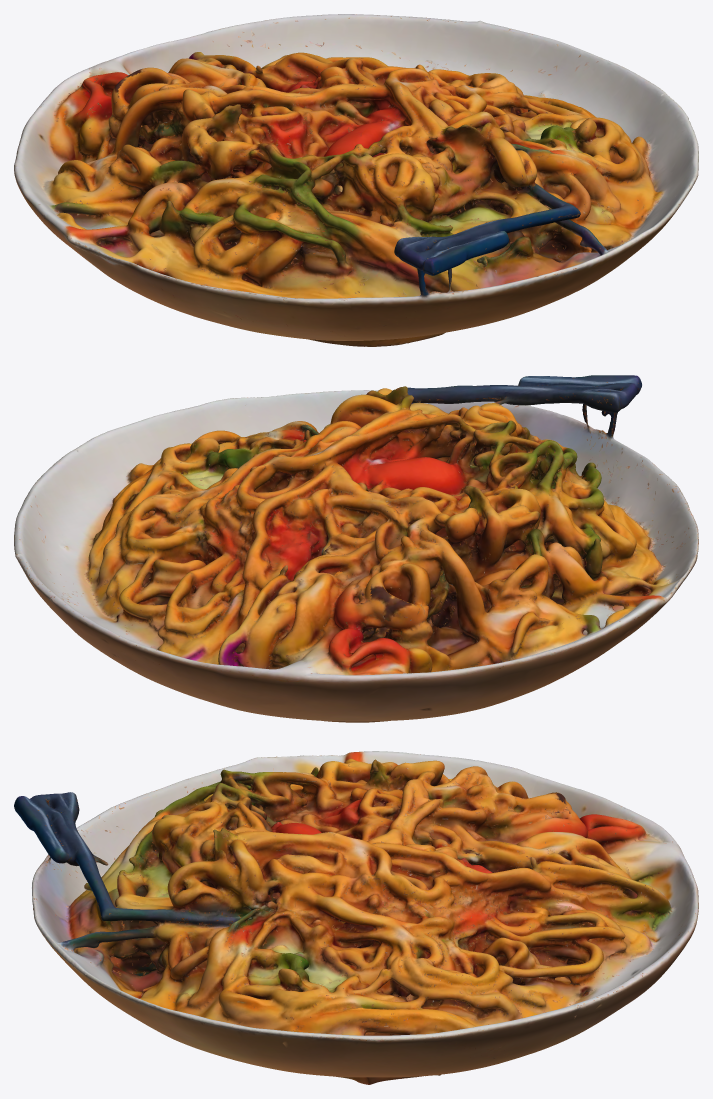
Rendered from chinese.glb.
The picture shows the model from 3 angles, top to bottom: view 1: azimuth 30°, elevation 25°; view 2: azimuth 150°, elevation 25°; view 3: azimuth 270°, elevation 25°; orthographic projection. The views are drawn at different scales.
Size of the model in its own units: 1.97 by 0.7112 by 2.
1 material, 1 textured.
